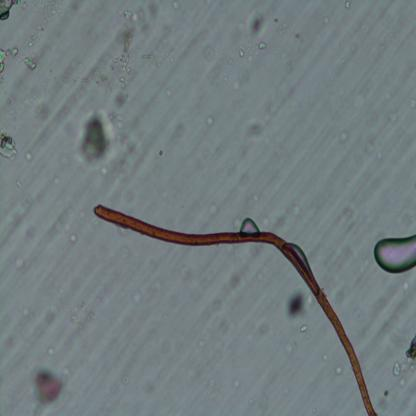Air bubble: (373, 233, 416, 275), (238, 214, 259, 235)
Background material: (74, 101, 121, 175), (201, 263, 251, 314), (111, 7, 135, 104), (114, 113, 156, 168), (28, 3, 66, 46), (32, 363, 65, 404), (236, 113, 266, 141), (245, 10, 269, 40), (0, 42, 19, 78), (289, 286, 306, 320), (0, 128, 16, 158), (34, 99, 58, 119), (0, 1, 21, 22), (204, 41, 222, 62), (404, 335, 416, 360), (362, 140, 376, 160), (44, 308, 59, 326), (338, 130, 354, 146), (22, 52, 36, 70), (390, 360, 402, 380), (21, 192, 34, 209), (69, 0, 83, 14), (300, 324, 311, 340), (14, 256, 25, 271), (24, 148, 35, 162), (237, 47, 247, 62), (294, 25, 302, 43), (340, 0, 352, 12), (204, 117, 215, 130), (330, 366, 344, 376), (69, 231, 79, 245), (258, 39, 268, 52), (284, 342, 294, 354), (262, 327, 272, 338), (323, 352, 330, 364), (159, 148, 165, 158)
Microfibre: (93, 204, 381, 415)
